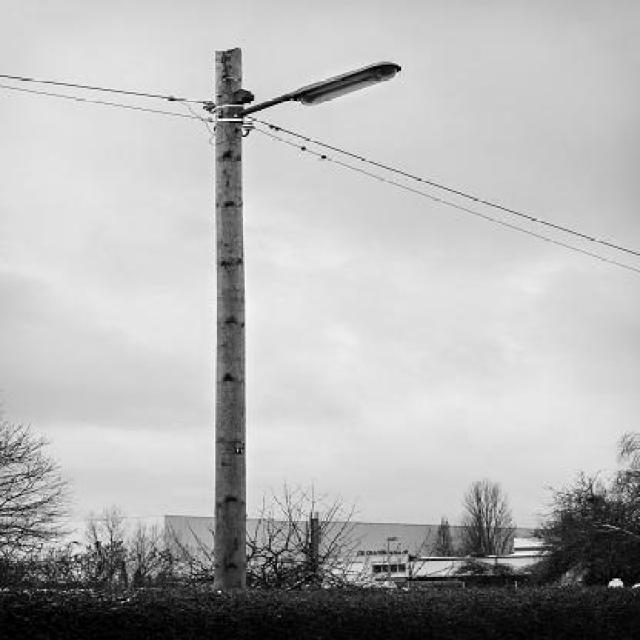Pole: (214, 49, 400, 590)
